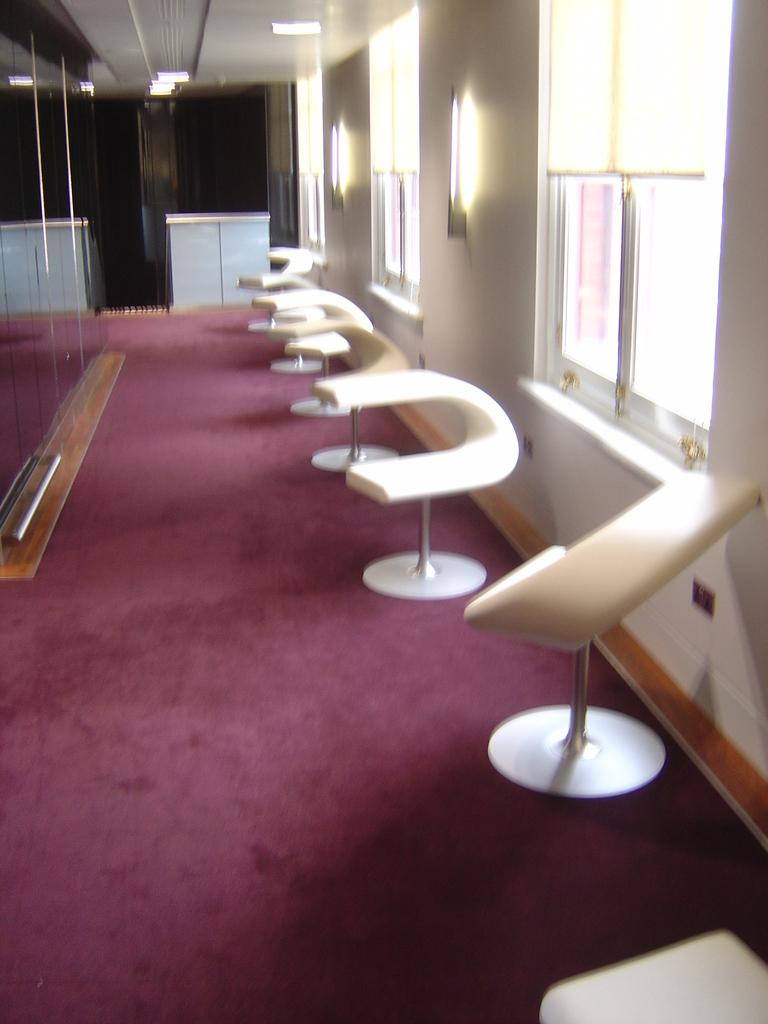Chair: (461, 381, 760, 798)
